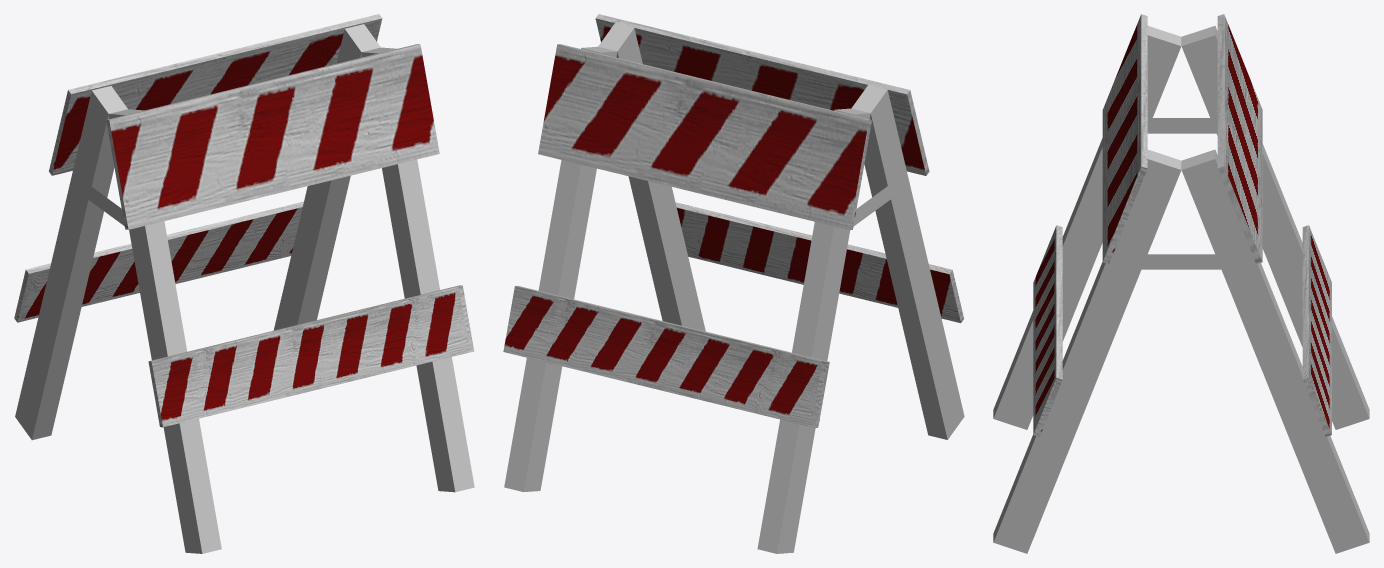
File: road_bar4_LOD1.fbx
3 views of the same model, side by side, from view 1: azimuth 30°, elevation 25°; view 2: azimuth 150°, elevation 25°; view 3: azimuth 270°, elevation 25° (orthographic).
Visible parts, largest first — view 1: polySurface997; view 2: polySurface997; view 3: polySurface997.
Boxes of the visible parts, x1,y1,x2,y2 form: polySurface997: (14,14,474,553); polySurface997: (503,14,964,553); polySurface997: (993,14,1369,553).
Size of the model in its own units: 1.04 by 1.27 by 1.09.
